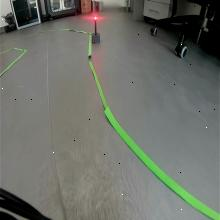red: (93, 15, 98, 22)
